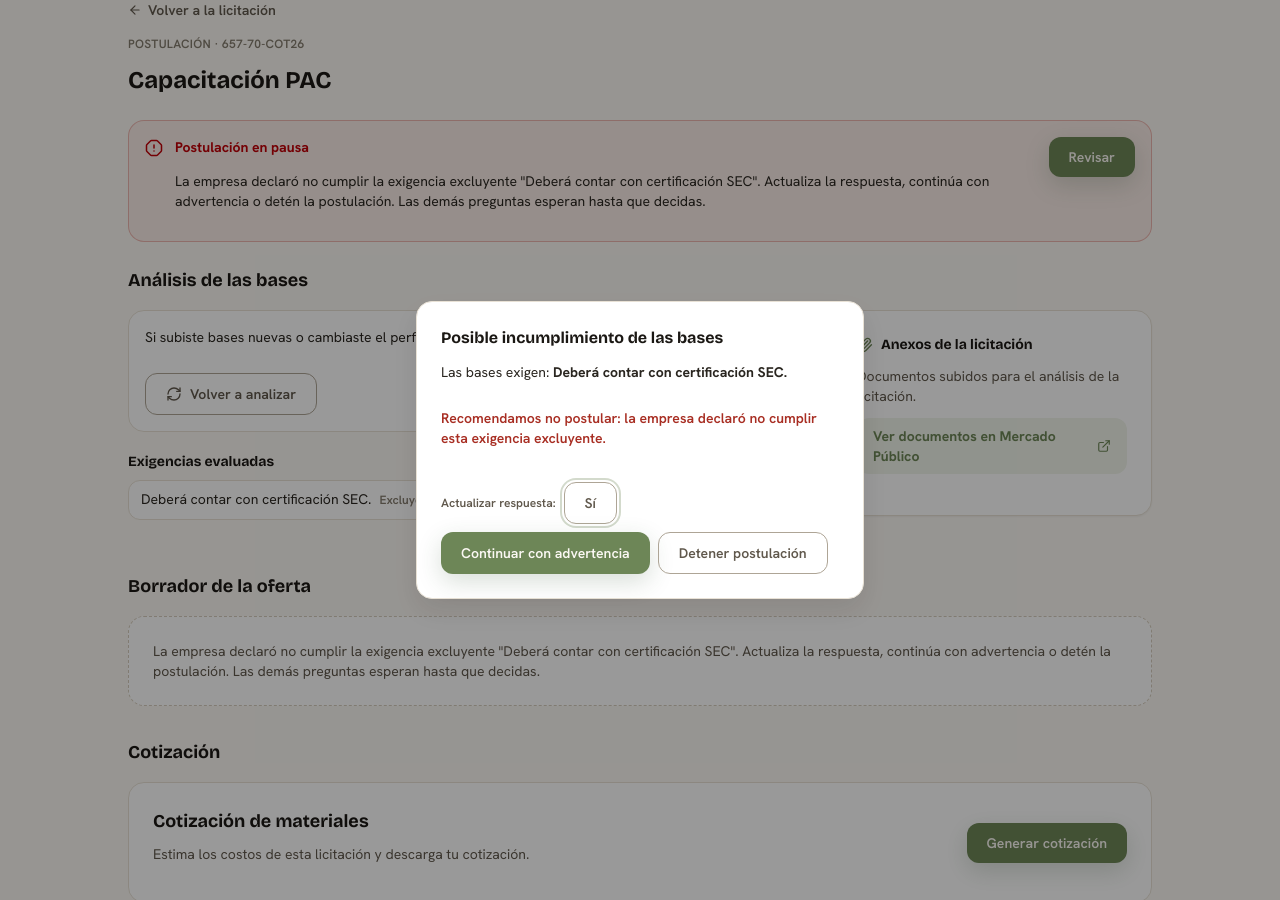
it: ProposalView › en pausa el banner deja volver a abrir el aviso
Check: the dialog is shown, box [416,301,864,599]
Press Escape
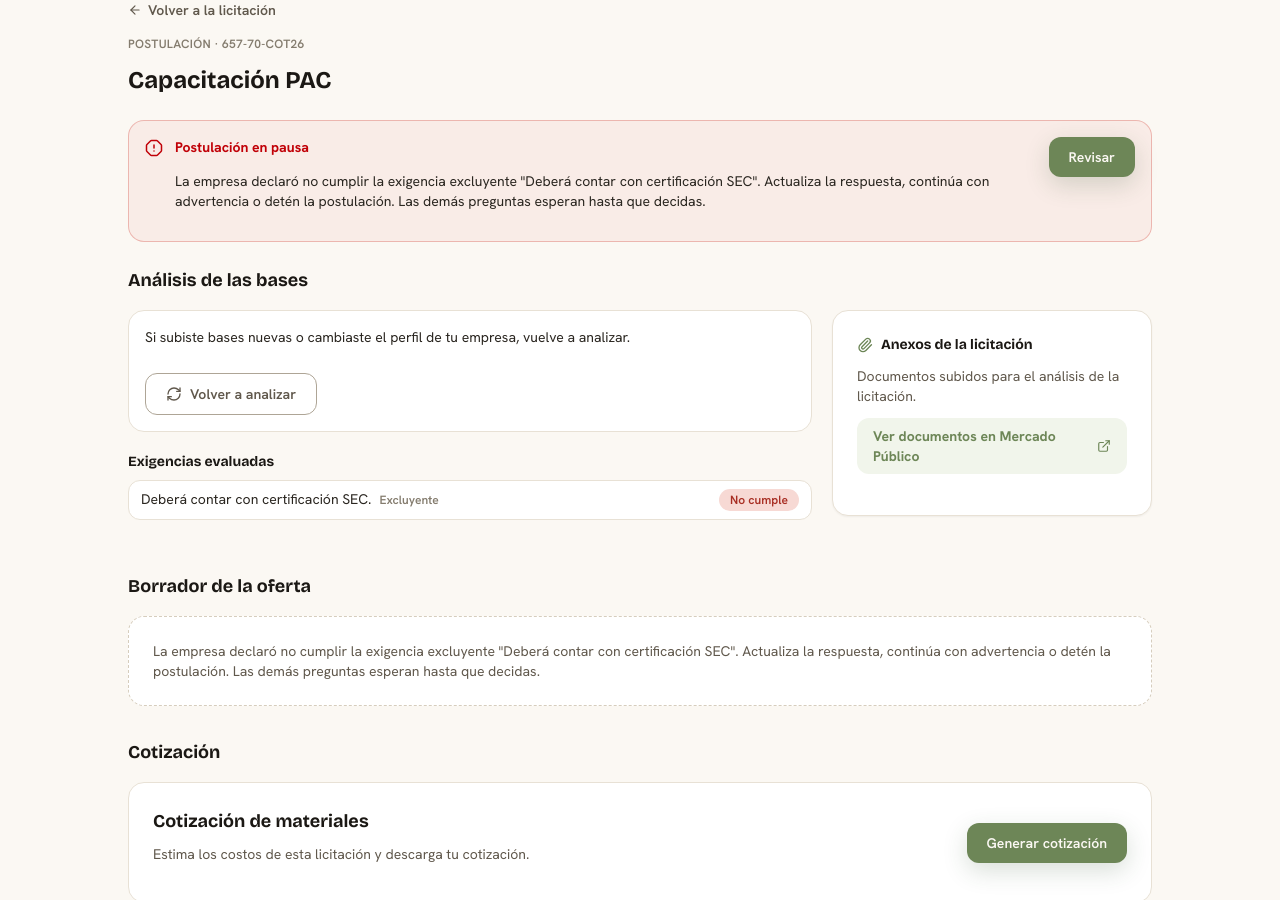
Check: the element named "Estado de la postulación" shows "Postulación en pausa", box [175,138,309,156]
Check: the dialog is gone
Click the button "Revisar".
click(1092, 157)  # box [1048,137,1135,177]
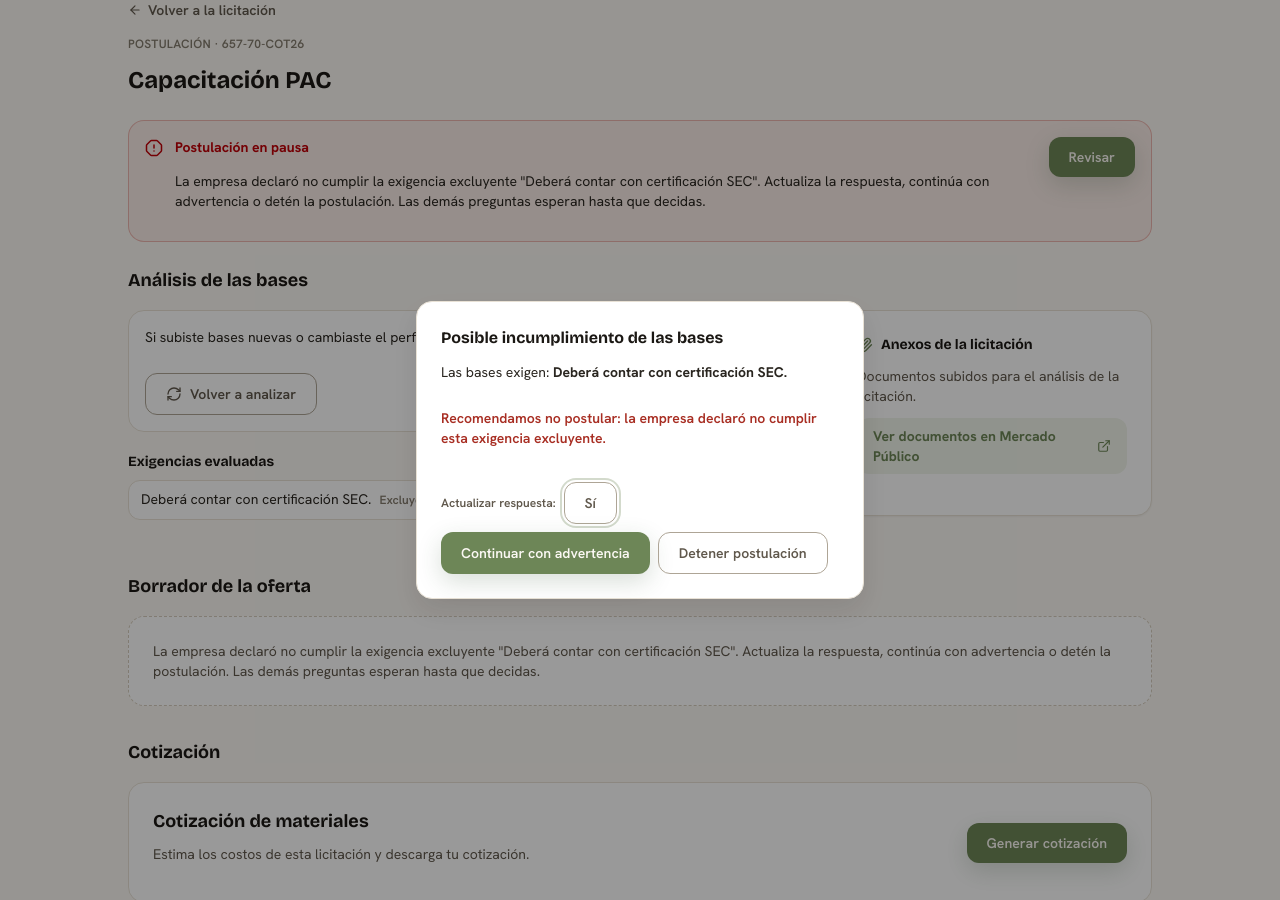
Check: the dialog shows "Recomendamos no postular", box [441,409,817,447]
